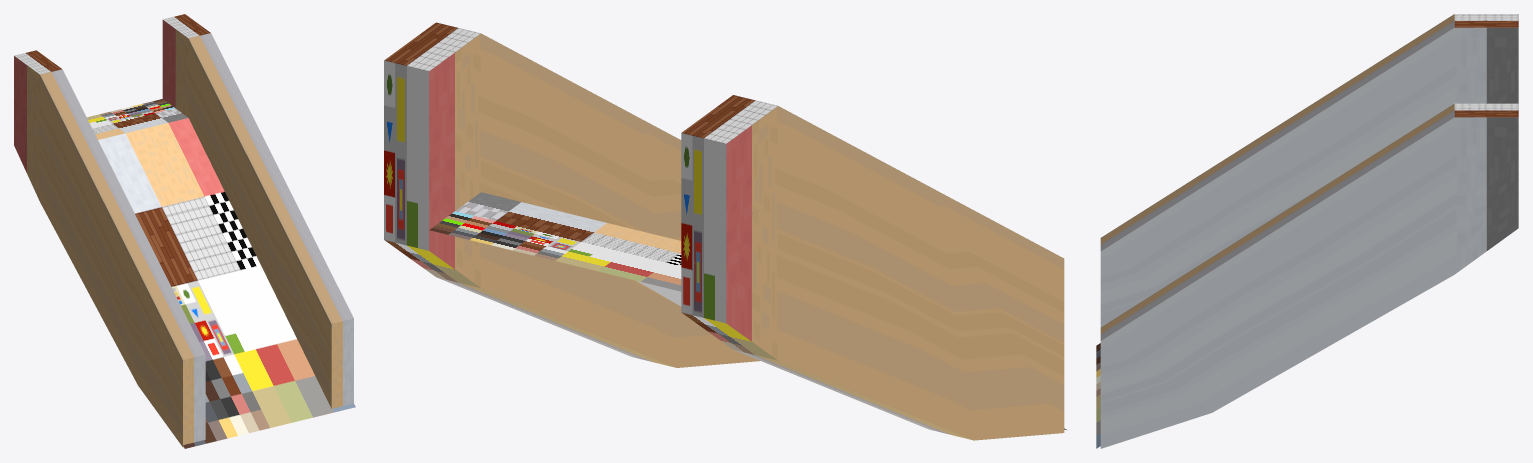
Rendered from Stairs_1_physics.fbx.
3 views of the same model, side by side, from view 1: azimuth 30°, elevation 25°; view 2: azimuth 150°, elevation 25°; view 3: azimuth 270°, elevation 25° (orthographic). The views are drawn at different scales.
Parts seen in each view (by area): view 1: polySurface1595; view 2: polySurface1595; view 3: polySurface1595.
Boxes of the visible parts, x1=… form: polySurface1595: x1=14, y1=14, x2=355, y2=448; polySurface1595: x1=384, y1=22, x2=1067, y2=440; polySurface1595: x1=1096, y1=14, x2=1518, y2=448.
Size of the model in its own units: 3.8 by 5.69 by 6.57.
Materials: 1 (1 with a texture image).
